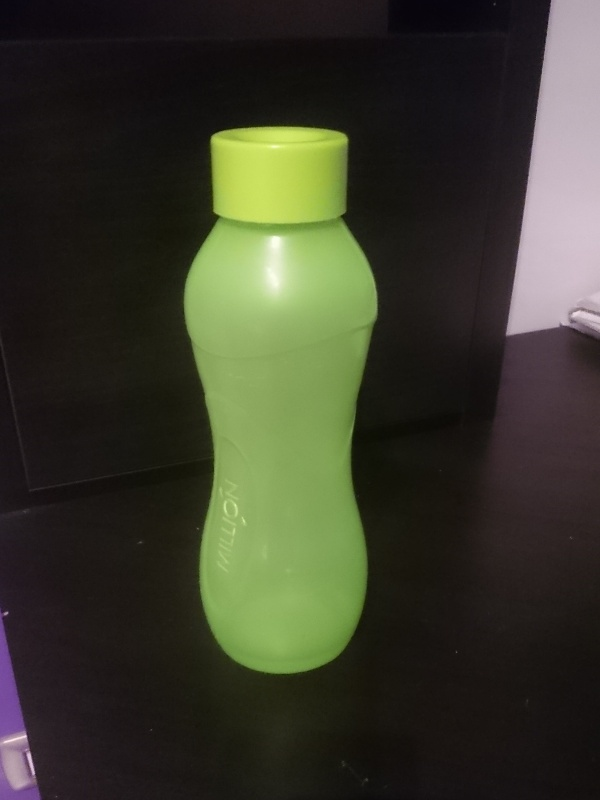my bottle: (179, 125, 377, 672)
